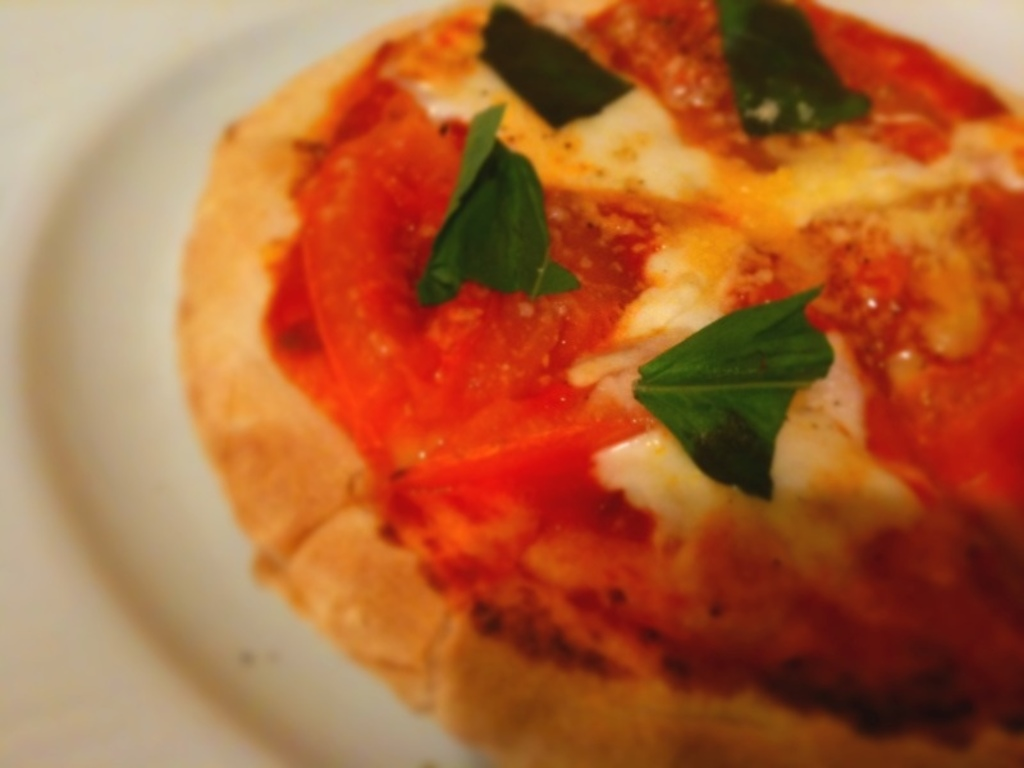Pizza: (143, 0, 1024, 768)
